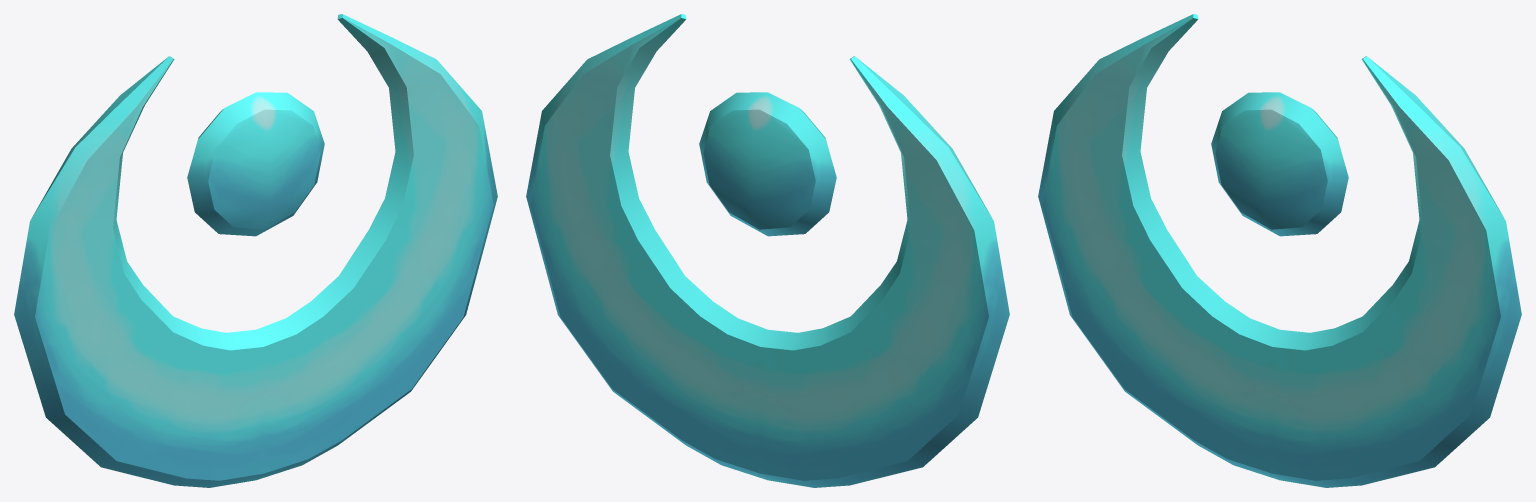
The model's file is LuaTeste.fbx.
3 views of the same model, side by side, from view 1: azimuth 30°, elevation 25°; view 2: azimuth 150°, elevation 25°; view 3: azimuth 330°, elevation 25° (orthographic).
Parts seen in each view (by area): view 1: Plane.003; view 2: Plane.003; view 3: Plane.003.
Part boxes in pixels (x1,y1,x2,y2): Plane.003: (14, 14, 497, 487); Plane.003: (526, 14, 1009, 487); Plane.003: (1038, 14, 1521, 487).
Bounding box in the file's own units: 65.54 × 57.63 × 6.86.
